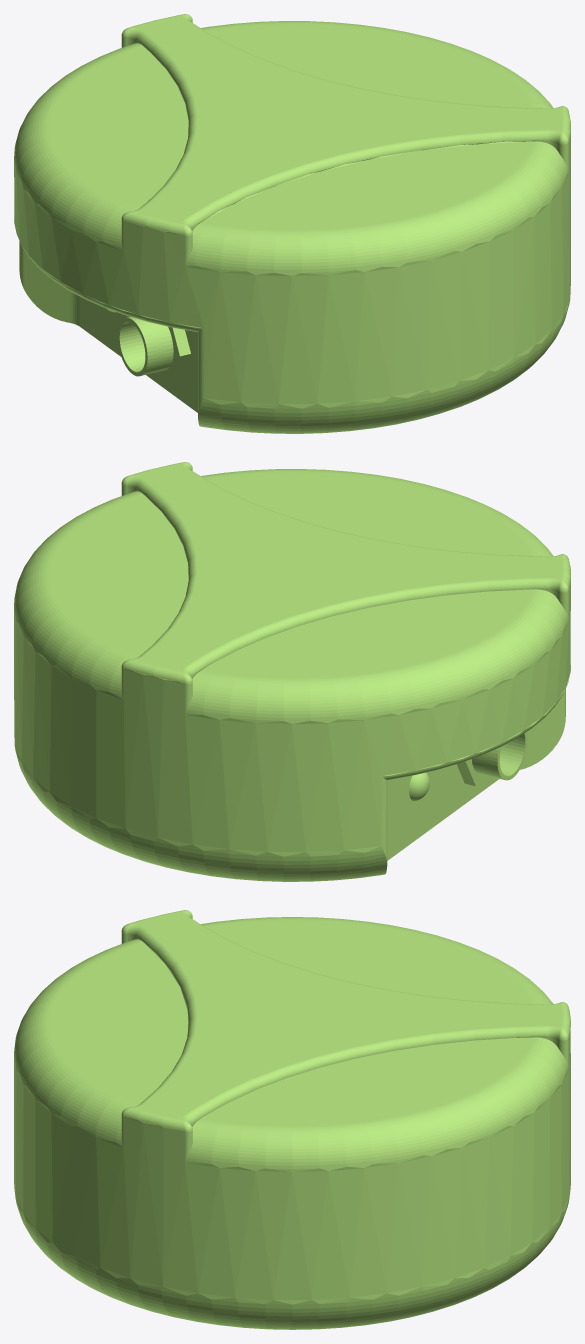
File: gps.dae
3 views of the same model, one above another, from view 1: azimuth 30°, elevation 25°; view 2: azimuth 150°, elevation 25°; view 3: azimuth 270°, elevation 25° (orthographic).
Parts seen in each view (by area): view 1: GPS; view 2: GPS; view 3: GPS.
Boxes of the visible parts, x1,y1,x2,y2 form: GPS: (14,14,570,433); GPS: (14,462,570,881); GPS: (14,910,570,1329).
Size of the model in its own units: 130 by 130 by 55.
